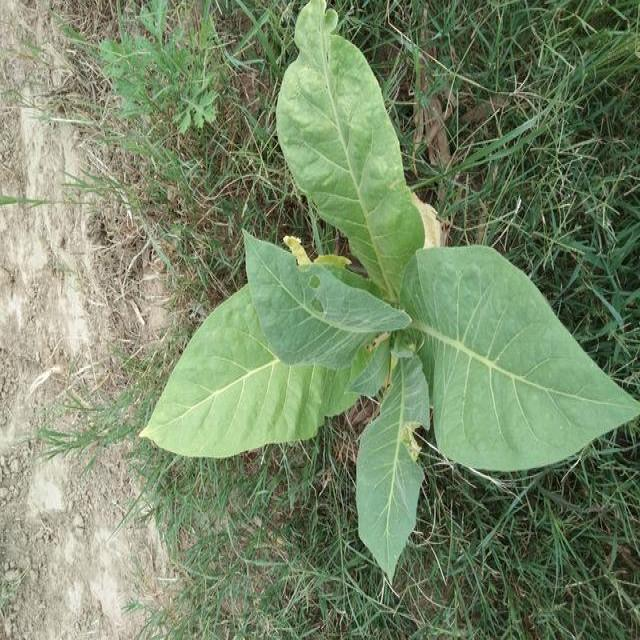crop: (143, 0, 640, 599)
